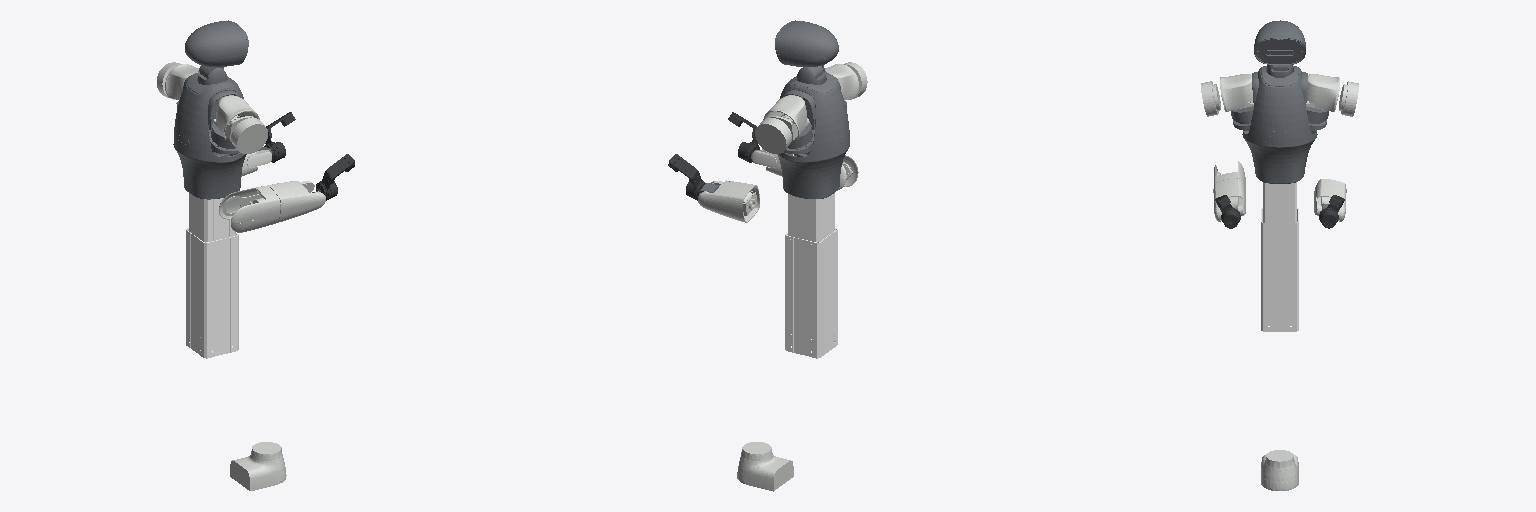
robot.urdf — robot:
<?xml version='1.0' encoding='utf-8'?>
<robot name="">
  <link name="base_link">
    <inertial>
      <origin xyz="-0.0210016244499687 -0.000573824819094678 0.212610855699829" rpy="0 0 0" />
      <mass value="40.5989952584217" />
      <inertia ixx="1.1783749961508" ixy="-0.00858977384450058" ixz="0.00640069906928608" iyy="0.671209693188774" iyz="-0.00107079862334716" izz="1.60572392070068" />
    </inertial>
    <visual>
      <origin xyz="0 0 0" rpy="0 0 0" />
      <geometry>
        <mesh filename="../meshes/base_link.stl" />
      </geometry>
      <material name="">
        <color rgba="0.86 0.87 0.86 1" />
      </material>
    </visual>
    <collision>
      <origin xyz="0 0 0" rpy="0 0 0" />
      <geometry>
        <mesh filename="../meshes/base_link.stl" />
      </geometry>
    </collision>
  </link>
  <link name="waist_link1">
    <inertial>
      <origin xyz="4.71363834647631E-06 4.2971731185871E-05 0.329899715999923" rpy="0 0 0" />
      <mass value="2.72790578725085" />
      <inertia ixx="0.0208226060488206" ixy="-2.06711905639081E-07" ixz="-8.41168978457884E-09" iyy="0.0209069847628194" iyz="4.74898867724425E-08" izz="0.00886997249418757" />
    </inertial>
    <visual>
      <origin xyz="0 0 0" rpy="0 0 0" />
      <geometry>
        <mesh filename="../meshes/waist_link1.stl" />
      </geometry>
      <material name="">
        <color rgba="1 1 1 1" />
      </material>
    </visual>
    <collision>
      <origin xyz="0 0 0" rpy="0 0 0" />
      <geometry>
        <mesh filename="../meshes/waist_link1.stl" />
      </geometry>
    </collision>
  </link>
  <joint name="waist_joint1" type="fixed">
    <origin xyz="-0.207999999999998 0 0.714000000000073" rpy="0 0 0" />
    <parent link="base_link" />
    <child link="waist_link1" />
    <axis xyz="0 0 1" />
    <limit lower="0" upper="0.5" effort="100" velocity="3" />
  </joint>
  <link name="waist_link2">
    <inertial>
      <origin xyz="-2.75742961797221E-09 -1.35664928086101E-06 0.11299995015911" rpy="0 0 0" />
      <mass value="4.89146300174845" />
      <inertia ixx="0.0151521537038742" ixy="-1.68664738907382E-05" ixz="-3.93385800325219E-09" iyy="0.0109687416373869" iyz="7.22588351941604E-09" izz="0.0127199889605364" />
    </inertial>
    <visual>
      <origin xyz="0 0 0" rpy="0 0 0" />
      <geometry>
        <mesh filename="../meshes/waist_link2.stl" />
      </geometry>
      <material name="">
        <color rgba="0.48 0.50 0.52 1" />
      </material>
    </visual>
    <collision>
      <origin xyz="0 0 0" rpy="0 0 0" />
      <geometry>
        <mesh filename="../meshes/waist_link2.stl" />
      </geometry>
    </collision>
  </link>
  <joint name="waist_joint2" type="revolute">
    <origin xyz="0 0 0.512499999999928" rpy="0 0 0" />
    <parent link="waist_link1" />
    <child link="waist_link2" />
    <axis xyz="0 0 -1" />
    <limit lower="-3.14" upper="3.14" effort="100" velocity="3" />
  </joint>
  <link name="neck_link1">
    <inertial>
      <origin xyz="8.5197607332943E-07 -0.00245157373100879 0.0379534553724736" rpy="0 0 0" />
      <mass value="0.177907107775606" />
      <inertia ixx="8.02838543323745E-05" ixy="-1.11227933029819E-10" ixz="-1.58897831035198E-09" iyy="8.79100529897491E-05" iyz="-5.35546426308548E-06" izz="7.81471788143536E-05" />
    </inertial>
    <visual>
      <origin xyz="0 0 0" rpy="0 0 0" />
      <geometry>
        <mesh filename="../meshes/neck_link1.stl" />
      </geometry>
      <material name="">
        <color rgba="0.48 0.50 0.52 1" />
      </material>
    </visual>
    <collision>
      <origin xyz="0 0 0" rpy="0 0 0" />
      <geometry>
        <mesh filename="../meshes/neck_link1.stl" />
      </geometry>
    </collision>
  </link>
  <joint name="neck_joint1" type="revolute">
    <origin xyz="0 0 0.2565" rpy="0 0 0" />
    <parent link="waist_link2" />
    <child link="neck_link1" />
    <axis xyz="0 0 -1" />
    <limit lower="-3.14" upper="3.14" effort="100" velocity="3" />
  </joint>
  <link name="neck_link2">
    <inertial>
      <origin xyz="0.014714791026595 0.0920311511959999 0.00086155913159689" rpy="0 0 0" />
      <mass value="0.330292133011736" />
      <inertia ixx="0.00145259705599668" ixy="-7.05524585757135E-05" ixz="-5.67675296240524E-07" iyy="0.00159563762614044" iyz="5.09538642300468E-06" izz="0.00124514018738541" />
    </inertial>
    <visual>
      <origin xyz="0 0 0" rpy="0 0 0" />
      <geometry>
        <mesh filename="../meshes/neck_link2.stl" />
      </geometry>
      <material name="">
        <color rgba="0.48 0.50 0.52 1" />
      </material>
    </visual>
    <collision>
      <origin xyz="0 0 0" rpy="0 0 0" />
      <geometry>
        <mesh filename="../meshes/neck_link2.stl" />
      </geometry>
    </collision>
  </link>
  <joint name="neck_joint2" type="revolute">
    <origin xyz="0 0 0.0419999999999996" rpy="1.5707963267949 0 0" />
    <parent link="neck_link1" />
    <child link="neck_link2" />
    <axis xyz="0 0 -1" />
    <limit lower="-0.8" upper="0.8" effort="100" velocity="3" />
  </joint>
  <link name="left_arm_link_1">
    <inertial>
      <origin xyz="0.0016293 0.094378 0.045525" rpy="0 0 0" />
      <mass value="2.466" />
      <inertia ixx="0.0024341" ixy="-3.6756E-07" ixz="-3.0209E-07" iyy="0.0032492" iyz="-0.00017146" izz="0.002744" />
    </inertial>
    <visual>
      <origin xyz="0 0 0" rpy="0 0 0" />
      <geometry>
        <mesh filename="../meshes/left_arm_link_1.stl" />
      </geometry>
      <material name="">
        <color rgba="0.86 0.87 0.86 1" />
      </material>
    </visual>
    <collision>
      <origin xyz="0 0 0" rpy="0 0 0" />
      <geometry>
        <mesh filename="../meshes/left_arm_link_1.stl" />
      </geometry>
    </collision>
  </link>
  <joint name="left_arm_joint_1" type="revolute">
    <origin xyz="0 0.11795 0.14597" rpy="-0.20944 0 0" />
    <parent link="waist_link2" />
    <child link="left_arm_link_1" />
    <axis xyz="0 0 -1" />
    <limit lower="-1" upper="1" effort="100" velocity="3" />
  </joint>
  <link name="left_arm_link_2">
    <inertial>
      <origin xyz="1.8893E-06 0.20707 0.014617" rpy="0 0 0" />
      <mass value="2.07" />
      <inertia ixx="0.0081146" ixy="6.426E-08" ixz="4.9194E-08" iyy="0.001323" iyz="-6.6092E-05" izz="0.0089618" />
    </inertial>
    <visual>
      <origin xyz="0 0 0" rpy="0 0 0" />
      <geometry>
        <mesh filename="../meshes/left_arm_link_2.stl" />
      </geometry>
      <material name="">
        <color rgba="0.86 0.87 0.86 1" />
      </material>
    </visual>
    <collision>
      <origin xyz="0 0 0" rpy="0 0 0" />
      <geometry>
        <mesh filename="../meshes/left_arm_link_2.stl" />
      </geometry>
    </collision>
  </link>
  <joint name="left_arm_joint_2" type="revolute">
    <origin xyz="0 0.112000025930368 0.0485000000000013" rpy="-1.57079632679489 0 0" />
    <parent link="left_arm_link_1" />
    <child link="left_arm_link_2" />
    <axis xyz="0 0 -1" />
    <limit lower="-2.36" upper="2.36" effort="100" velocity="3" />
  </joint>
  <link name="left_arm_link_3">
    <inertial>
      <origin xyz="0.062919 -1.5572E-05 0.0072281" rpy="0 0 0" />
      <mass value="0.685" />
      <inertia ixx="0.00047166" ixy="1.8021E-08" ixz="7.2781E-05" iyy="0.0011132" iyz="-1.9255E-10" izz="0.0013099" />
    </inertial>
    <visual>
      <origin xyz="0 0 0" rpy="0 0 0" />
      <geometry>
        <mesh filename="../meshes/left_arm_link_3.stl" />
      </geometry>
      <material name="">
        <color rgba="0.86 0.87 0.86 1" />
      </material>
    </visual>
    <collision>
      <origin xyz="0 0 0" rpy="0 0 0" />
      <geometry>
        <mesh filename="../meshes/left_arm_link_3.stl" />
      </geometry>
    </collision>
  </link>
  <joint name="left_arm_joint_3" type="revolute">
    <origin xyz="0 0.315 0" rpy="0 0 0" />
    <parent link="left_arm_link_2" />
    <child link="left_arm_link_3" />
    <axis xyz="0 0 -1" />
    <limit lower="-3.7869" upper="0.6" effort="100" velocity="3" />
  </joint>
  <link name="left_arm_link_4">
    <inertial>
      <origin xyz="-0.0012645 -6.1634E-06 0.075519" rpy="0 0 0" />
      <mass value="1.142" />
      <inertia ixx="0.0015046" ixy="1.9765E-09" ixz="3.0867E-05" iyy="0.0013431" iyz="-1.2832E-08" izz="0.00050612" />
    </inertial>
    <visual>
      <origin xyz="0 0 0" rpy="0 0 0" />
      <geometry>
        <mesh filename="../meshes/left_arm_link_4.stl" />
      </geometry>
      <material name="">
        <color rgba="0.86 0.87 0.86 1" />
      </material>
    </visual>
    <collision>
      <origin xyz="0 0 0" rpy="0 0 0" />
      <geometry>
        <mesh filename="../meshes/left_arm_link_4.stl" />
      </geometry>
    </collision>
  </link>
  <joint name="left_arm_joint_4" type="revolute">
    <origin xyz="0.125999999999984 0 0" rpy="-1.91154118693896 1.57079631189374 -1.91361186876077" />
    <parent link="left_arm_link_3" />
    <child link="left_arm_link_4" />
    <axis xyz="0 0 -1" />
    <limit lower="-2.97" upper="2.97" effort="100" velocity="3" />
  </joint>
  <link name="left_arm_link_5">
    <inertial>
      <origin xyz="0.0042733 -2.8558E-06 -0.0023871" rpy="0 0 0" />
      <mass value="0.195" />
      <inertia ixx="1.841E-05" ixy="-1.1393E-09" ixz="1.1769E-07" iyy="1.4217E-05" iyz="2.4004E-10" izz="1.2016E-05" />
    </inertial>
    <visual>
      <origin xyz="0 0 0" rpy="0 0 0" />
      <geometry>
        <mesh filename="../meshes/left_arm_link_5.stl" />
      </geometry>
      <material name="">
        <color rgba="0.48 0.50 0.52 1" />
      </material>
    </visual>
    <collision>
      <origin xyz="0 0 0" rpy="0 0 0" />
      <geometry>
        <mesh filename="../meshes/left_arm_link_5.stl" />
      </geometry>
    </collision>
  </link>
  <joint name="left_arm_joint_5" type="revolute">
    <origin xyz="0 0 0.1576" rpy="0.000000 -1.570796326795 0.000000" />
    <parent link="left_arm_link_4" />
    <child link="left_arm_link_5" />
    <axis xyz="0 0 1" />
    <limit lower="-1.40" upper="1.2" effort="100" velocity="3" />
  </joint>
  <link name="left_arm_link_6">
    <inertial>
      <origin xyz="8.9693E-07 5.5721E-06 -0.0070325" rpy="0 0 0" />
      <mass value="0.763" />
      <inertia ixx="5.0407E-05" ixy="7.4072E-08" ixz="1.9863E-09" iyy="5.0117E-05" iyz="1.234E-08" izz="6.5156E-05" />
    </inertial>
    <visual>
      <origin xyz="0 0 0" rpy="0 0 0" />
      <geometry>
        <mesh filename="../meshes/left_arm_link_6.stl" />
      </geometry>
      <material name="">
        <color rgba="0.28 0.29 0.30 1" />
      </material>
    </visual>
    <collision>
      <origin xyz="0 0 0" rpy="0 0 0" />
      <geometry>
        <mesh filename="../meshes/left_arm_link_6.stl" />
      </geometry>
    </collision>
  </link>
  <joint name="left_arm_joint_6" type="revolute">
    <origin xyz="0.035619274069612 0 0" rpy="0.000000 1.570796326795 0.000000" />
    <parent link="left_arm_link_5" />
    <child link="left_arm_link_6" />
    <axis xyz="0 0 -1" />
    <limit lower="-3.141592653590" upper="3.141592653590" effort="100" velocity="3" />
  </joint>
  <link name="right_arm_link_1">
    <inertial>
      <origin xyz="-5.1604E-06 -0.094378 0.045525" rpy="0 0 0" />
      <mass value="2.466" />
      <inertia ixx="0.0024341" ixy="-3.6647E-07" ixz="3.0268E-07" iyy="0.0032492" iyz="0.00017146" izz="0.002744" />
    </inertial>
    <visual>
      <origin xyz="0 0 0" rpy="0 0 0" />
      <geometry>
        <mesh filename="../meshes/right_arm_link_1.stl" />
      </geometry>
      <material name="">
        <color rgba="0.86 0.87 0.86 1" />
      </material>
    </visual>
    <collision>
      <origin xyz="0 0 0" rpy="0 0 0" />
      <geometry>
        <mesh filename="../meshes/right_arm_link_1.stl" />
      </geometry>
    </collision>
  </link>
  <joint name="right_arm_joint_1" type="revolute">
    <origin xyz="0 -0.117953762415542 0.14597148146664" rpy="0.209439510239324 0 0" />
    <parent link="waist_link2" />
    <child link="right_arm_link_1" />
    <axis xyz="0 0 -1" />
    <limit lower="-1" upper="1" effort="100" velocity="3" />
  </joint>
  <link name="right_arm_link_2">
    <inertial>
      <origin xyz="-1.8894E-06 -0.20707 0.014617" rpy="0 0 0" />
      <mass value="2.07" />
      <inertia ixx="0.0081146" ixy="6.4245E-08" ixz="-4.9193E-08" iyy="0.001323" iyz="6.6092E-05" izz="0.0089618" />
    </inertial>
    <visual>
      <origin xyz="0 0 0" rpy="0 0 0" />
      <geometry>
        <mesh filename="../meshes/right_arm_link_2.stl" />
      </geometry>
      <material name="">
        <color rgba="0.86 0.87 0.86 1" />
      </material>
    </visual>
    <collision>
      <origin xyz="0 0 0" rpy="0 0 0" />
      <geometry>
        <mesh filename="../meshes/right_arm_link_2.stl" />
      </geometry>
    </collision>
  </link>
  <joint name="right_arm_joint_2" type="revolute">
    <origin xyz="0 -0.112000025930361 0.0485000000000078" rpy="1.57079632679489 0 0" />
    <parent link="right_arm_link_1" />
    <child link="right_arm_link_2" />
    <axis xyz="0 0 -1" />
    <limit lower="-2.36" upper="2.36" effort="100" velocity="3" />
  </joint>
  <link name="right_arm_link_3">
    <inertial>
      <origin xyz="0.062919 -1.5532E-05 0.007228" rpy="0 0 0" />
      <mass value="0.685" />
      <inertia ixx="0.00047154" ixy="1.1362E-07" ixz="7.2734E-05" iyy="0.0011131" iyz="-4.5773E-08" izz="0.0013097" />
    </inertial>
    <visual>
      <origin xyz="0 0 0" rpy="0 0 0" />
      <geometry>
        <mesh filename="../meshes/right_arm_link_3.stl" />
      </geometry>
      <material name="">
        <color rgba="0.86 0.87 0.86 1" />
      </material>
    </visual>
    <collision>
      <origin xyz="0 0 0" rpy="0 0 0" />
      <geometry>
        <mesh filename="../meshes/right_arm_link_3.stl" />
      </geometry>
    </collision>
  </link>
  <joint name="right_arm_joint_3" type="revolute">
    <origin xyz="0 -0.315000000000005 0" rpy="0 0 0" />
    <parent link="right_arm_link_2" />
    <child link="right_arm_link_3" />
    <axis xyz="0 0 -1" />
    <limit lower="-0.6" upper="3.7443" effort="100" velocity="3" />
  </joint>
  <link name="right_arm_link_4">
    <inertial>
      <origin xyz="-0.001266 -6.561E-06 0.075519" rpy="0 0 0" />
      <mass value="1.142" />
      <inertia ixx="0.0015046" ixy="4.0822E-09" ixz="3.0866E-05" iyy="0.0013431" iyz="-2.1511E-08" izz="0.00050612" />
    </inertial>
    <visual>
      <origin xyz="0 0 0" rpy="0 0 0" />
      <geometry>
        <mesh filename="../meshes/right_arm_link_4.stl" />
      </geometry>
      <material name="">
        <color rgba="0.86 0.87 0.86 1" />
      </material>
    </visual>
    <collision>
      <origin xyz="0 0 0" rpy="0 0 0" />
      <geometry>
        <mesh filename="../meshes/right_arm_link_4.stl" />
      </geometry>
    </collision>
  </link>
  <joint name="right_arm_joint_4" type="revolute">
    <origin xyz="0.126000000000011 0 0" rpy="0 1.5707963267949 0" />
    <parent link="right_arm_link_3" />
    <child link="right_arm_link_4" />
    <axis xyz="0 0 -1" />
    <limit lower="-2.97" upper="2.97" effort="100" velocity="3" />
  </joint>
  <link name="right_arm_link_5">
    <inertial>
      <origin xyz="0.0042733 2.8558E-06 0.0023871" rpy="0 0 0" />
      <mass value="0.195" />
      <inertia ixx="1.841E-05" ixy="1.1393E-09" ixz="-1.1769E-07" iyy="1.4217E-05" iyz="2.4004E-10" izz="1.2016E-05" />
    </inertial>
    <visual>
      <origin xyz="0 0 0" rpy="0 0 0" />
      <geometry>
        <mesh filename="../meshes/right_arm_link_5.stl" />
      </geometry>
      <material name="">
        <color rgba="0.48 0.50 0.52 1" />
      </material>
    </visual>
    <collision>
      <origin xyz="0 0 0" rpy="0 0 0" />
      <geometry>
        <mesh filename="../meshes/right_arm_link_5.stl" />
      </geometry>
    </collision>
  </link>
  <joint name="right_arm_joint_5" type="revolute">
    <origin xyz="0 0 0.1576" rpy="3.141592653590 -1.570796326795 0.000000" />
    <parent link="right_arm_link_4" />
    <child link="right_arm_link_5" />
    <axis xyz="0 0 -1" />
    <limit lower="-1.4" upper="1.2" effort="100" velocity="3" />
  </joint>
  <link name="right_arm_link_6">
    <inertial>
      <origin xyz="8.9693E-07 5.5721E-06 -0.0070325" rpy="0 0 0" />
      <mass value="0.763" />
      <inertia ixx="5.0407E-05" ixy="7.4072E-08" ixz="1.9863E-09" iyy="5.0117E-05" iyz="1.234E-08" izz="6.5156E-05" />
    </inertial>
    <visual>
      <origin xyz="0 0 0" rpy="0 0 0" />
      <geometry>
        <mesh filename="../meshes/right_arm_link_6.stl" />
      </geometry>
      <material name="">
        <color rgba="0.28 0.29 0.30 1" />
      </material>
    </visual>
    <collision>
      <origin xyz="0 0 0" rpy="0 0 0" />
      <geometry>
        <mesh filename="../meshes/right_arm_link_6.stl" />
      </geometry>
    </collision>
  </link>
  <joint name="right_arm_joint_6" type="revolute">
    <origin xyz="0.035619 0 0" rpy="0.000000 -1.5707963 3.14159" />
    <parent link="right_arm_link_5" />
    <child link="right_arm_link_6" />
    <axis xyz="0 0 -1" />
    <limit lower="-3.141592653590" upper="3.141592653590" effort="100" velocity="3" />
  </joint>
  <link name="head_left_camera_optical_frame" />
  <joint name="head_left_camera_optical_joint" type="fixed">
    <origin xyz="0.079714 0.086617 -0.033" rpy="-1.0101 1.5708 -1.2719" />
    <parent link="neck_link2" />
    <child link="head_left_camera_optical_frame" />
  </joint>
  <link name="head_right_camera_optical_frame" />
  <joint name="head_right_camera_optical_joint" type="fixed">
    <origin xyz="0.079714 0.086617 0.033" rpy="-1.0101 1.5708 -1.2719" />
    <parent link="neck_link2" />
    <child link="head_right_camera_optical_frame" />
  </joint>
  <link name="left_wrist_camera_optical_frame" />
  <joint name="left_wrist_camera_optical_joint" type="fixed">
    <origin xyz="-3.2503E-05 -0.083903 0.086677" rpy="1.2217 -0.2618 2.8798" />
    <parent link="left_arm_link_6" />
    <child link="left_wrist_camera_optical_frame" />
  </joint>
  <link name="right_wrist_camera_optical_frame" />
  <joint name="right_wrist_camera_optical_joint" type="fixed">
    <origin xyz="-3.2528E-05 0.083903 0.086677" rpy="1.2217 0.2618 0.2618" />
    <parent link="right_arm_link_6" />
    <child link="right_wrist_camera_optical_frame" />
  </joint>
</robot>

--- Render facts (derived) ---
Views: 3 orthographic renders of the robot side by side, from view 1: azimuth 30°, elevation 25°; view 2: azimuth 150°, elevation 25°; view 3: azimuth 270°, elevation 25°.
Model robot with 21 links and 20 joints (15 revolute, 5 fixed), rooted at base_link, posed every joint at zero.
Links seen in each view (by area): view 1: waist_link1, waist_link2, neck_link2, right_arm_link_3, right_arm_link_1, base_link, right_arm_link_4, left_arm_link_1, right_arm_link_6, left_arm_link_6; view 2: waist_link1, waist_link2, neck_link2, left_arm_link_1, base_link, left_arm_link_4, right_arm_link_1, left_arm_link_6, right_arm_link_6; view 3: waist_link2, waist_link1, neck_link2, left_arm_link_1, right_arm_link_1, base_link, right_arm_link_4, left_arm_link_4.
Link boxes in pixels (x1=…): waist_link1: x1=186, y1=193, x2=238, y2=358; waist_link2: x1=173, y1=73, x2=246, y2=199; neck_link2: x1=185, y1=20, x2=248, y2=74; right_arm_link_3: x1=219, y1=185, x2=279, y2=232; right_arm_link_1: x1=214, y1=95, x2=267, y2=153; base_link: x1=230, y1=442, x2=286, y2=490; right_arm_link_4: x1=268, y1=181, x2=325, y2=222; left_arm_link_1: x1=157, y1=62, x2=198, y2=99; right_arm_link_6: x1=312, y1=154, x2=354, y2=200; left_arm_link_6: x1=264, y1=112, x2=295, y2=162; waist_link1: x1=785, y1=154, x2=837, y2=358; waist_link2: x1=777, y1=72, x2=849, y2=198; neck_link2: x1=775, y1=20, x2=838, y2=69; left_arm_link_1: x1=755, y1=95, x2=809, y2=153; base_link: x1=737, y1=442, x2=793, y2=491; left_arm_link_4: x1=698, y1=180, x2=759, y2=222; right_arm_link_1: x1=825, y1=62, x2=867, y2=100; left_arm_link_6: x1=668, y1=154, x2=705, y2=200; right_arm_link_6: x1=728, y1=112, x2=759, y2=162; waist_link2: x1=1231, y1=66, x2=1328, y2=183; waist_link1: x1=1261, y1=182, x2=1298, y2=331; neck_link2: x1=1254, y1=20, x2=1305, y2=68; left_arm_link_1: x1=1306, y1=74, x2=1358, y2=116; right_arm_link_1: x1=1201, y1=74, x2=1253, y2=116; base_link: x1=1261, y1=450, x2=1298, y2=490; right_arm_link_4: x1=1213, y1=179, x2=1245, y2=221; left_arm_link_4: x1=1314, y1=179, x2=1346, y2=221.
Bounding box of the posed robot: 0.5578 × 0.5578 × 1.69 m (x, y, z).
13 mesh visuals loaded from 17 distinct referenced files (13 binary STL); not drawn: 4 (reference not matched to a file when rendering).
